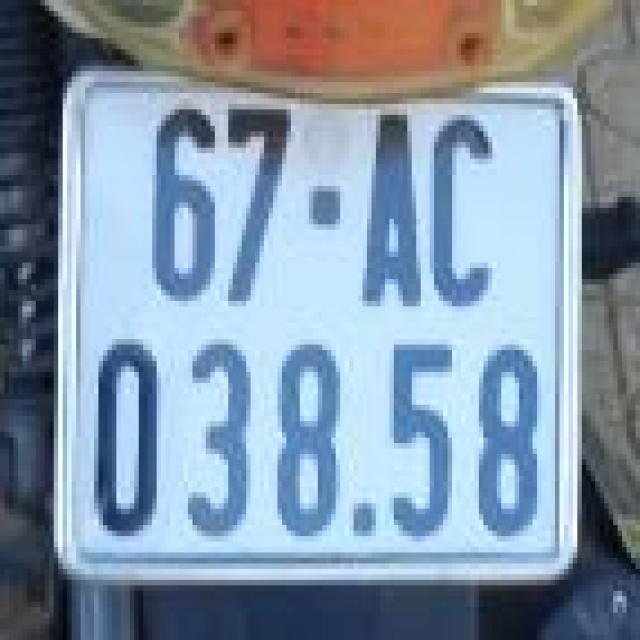0: (88, 328, 164, 547)
3: (186, 326, 257, 544)
5: (385, 317, 456, 547)
6: (141, 96, 222, 314)
7: (226, 101, 298, 315)
8: (266, 325, 347, 550), (466, 315, 542, 544)
A: (358, 85, 425, 320)
C: (434, 115, 497, 312)
